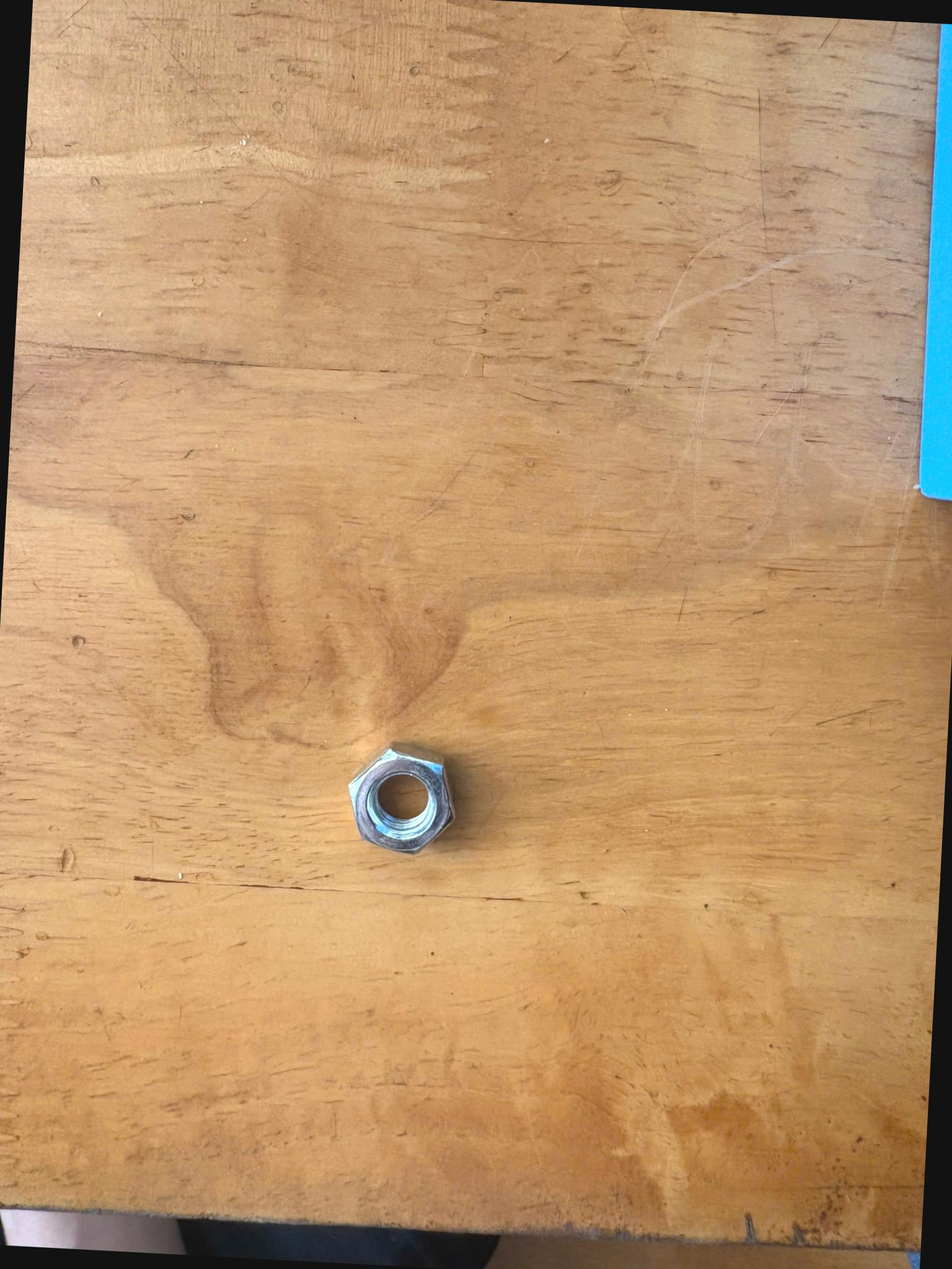nut: (337, 727, 466, 874)
